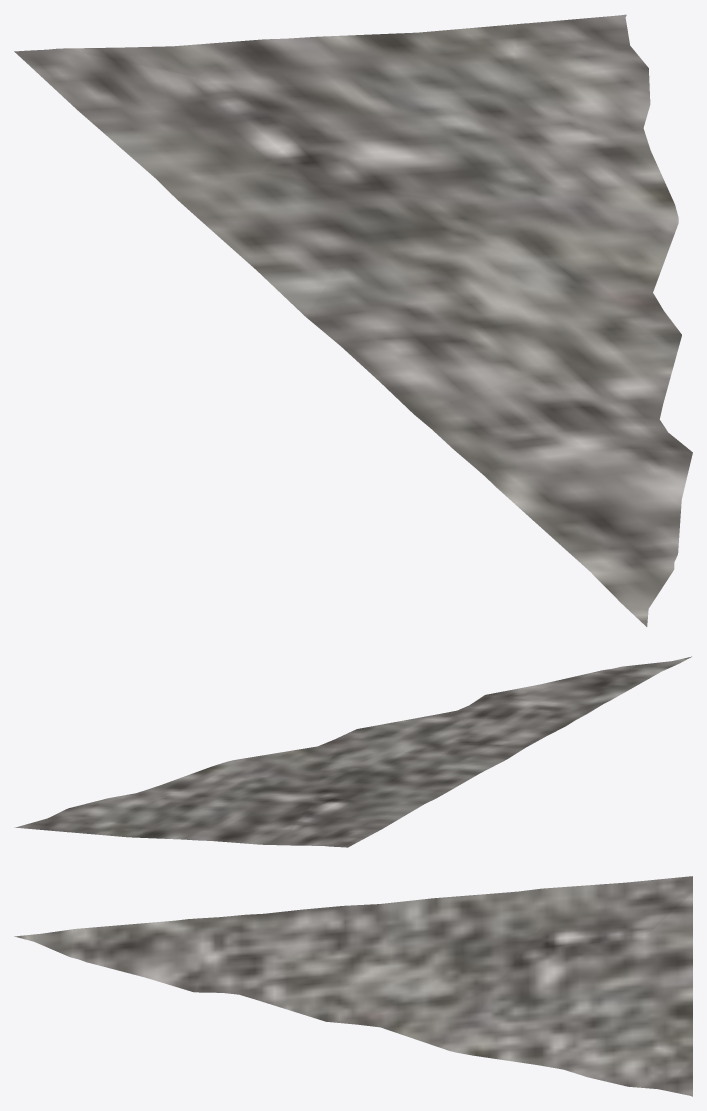
3 views of the same model, one above another, from view 1: azimuth 30°, elevation 25°; view 2: azimuth 150°, elevation 25°; view 3: azimuth 270°, elevation 25° (orthographic). The views are drawn at different scales.
Size of the model in its own units: 0.1867 by 0.0328 by 0.3341.
1 material, 1 textured.
